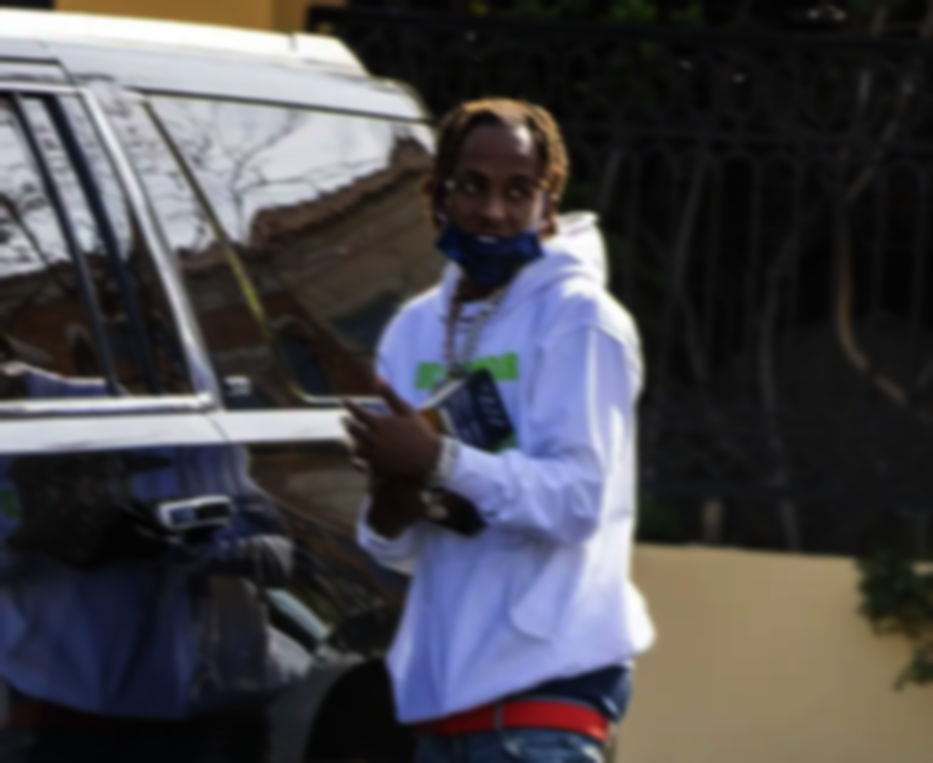mask_weared_incorrect: (421, 97, 567, 288)
